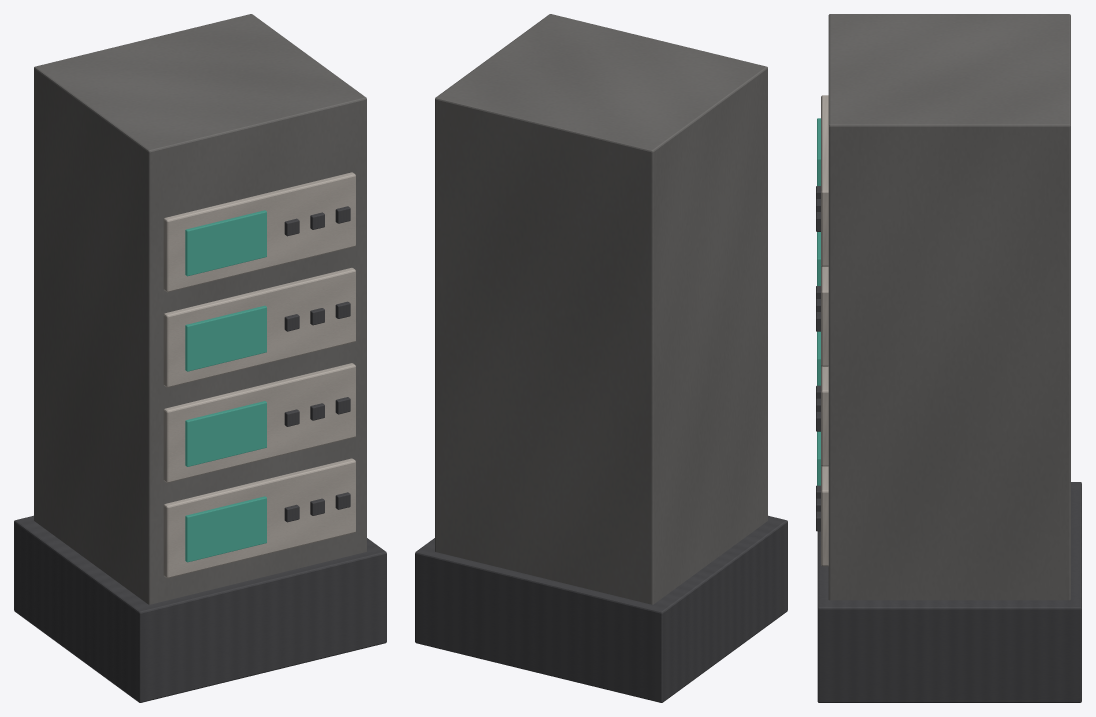
The model's file is mobile_instrument_rack.glb.
The picture shows the model from 3 angles, left to right: view 1: azimuth 30°, elevation 25°; view 2: azimuth 150°, elevation 25°; view 3: azimuth 270°, elevation 25°; orthographic projection. The views are drawn at different scales.
Visible parts, largest first — view 1: cabinet.001, base.013, face.005, face.003, face.002, face.004, display.016, display.017, display.015, display.014; view 2: cabinet.001, base.013; view 3: cabinet.001, base.013, face.005, face.002, face.003, face.004.
Part boxes in pixels (x1=…): cabinet.001: x1=34, y1=14, x2=366, y2=604; base.013: x1=14, y1=515, x2=386, y2=702; face.005: x1=163, y1=172, x2=355, y2=292; face.003: x1=163, y1=363, x2=355, y2=482; face.002: x1=163, y1=458, x2=355, y2=578; face.004: x1=163, y1=267, x2=355, y2=387; display.016: x1=185, y1=305, x2=266, y2=371; display.017: x1=185, y1=210, x2=266, y2=276; display.015: x1=185, y1=401, x2=266, y2=466; display.014: x1=185, y1=496, x2=266, y2=562; cabinet.001: x1=435, y1=14, x2=767, y2=604; base.013: x1=415, y1=515, x2=787, y2=702; cabinet.001: x1=828, y1=14, x2=1070, y2=600; base.013: x1=817, y1=482, x2=1081, y2=702; face.005: x1=821, y1=95, x2=828, y2=266; face.002: x1=821, y1=465, x2=828, y2=566; face.003: x1=821, y1=365, x2=828, y2=466; face.004: x1=821, y1=265, x2=828, y2=366.
Size of the model in its own units: 0.68 by 1.43 by 0.6035.
5 materials, 4 textured.
